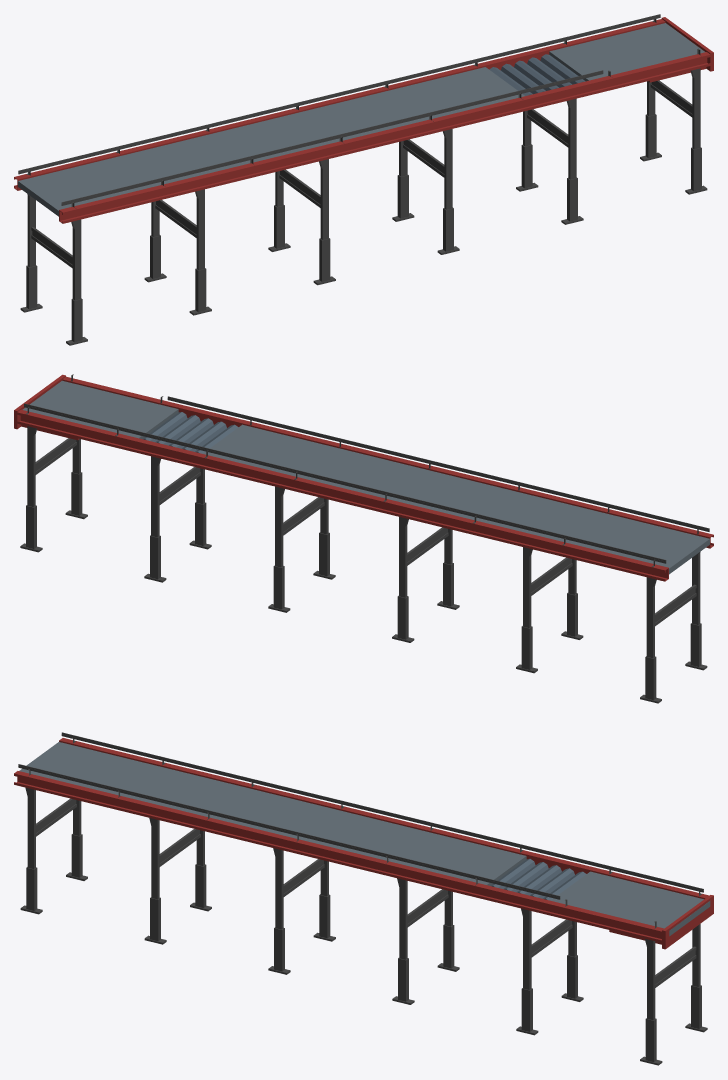
Rendered from cad-kxf.glb.
3 renders of one model, top to bottom at view 1: azimuth 30°, elevation 25°; view 2: azimuth 150°, elevation 25°; view 3: azimuth 330°, elevation 25°, orthographic.
Parts seen in each view (by area): view 1: cad-kxf_gray metal__GLB, cad-kxf_belt_surface, cad-kxf_red metal__GLB, cad-kxf_极简_深灰; view 2: cad-kxf_gray metal__GLB, cad-kxf_belt_surface, cad-kxf_red metal__GLB, cad-kxf_极简_深灰; view 3: cad-kxf_belt_surface, cad-kxf_gray metal__GLB, cad-kxf_red metal__GLB, cad-kxf_极简_深灰.
Boxes of the visible parts, bbox=[...] form: cad-kxf_gray metal__GLB: bbox=[18, 14, 707, 345]; cad-kxf_belt_surface: bbox=[18, 23, 705, 216]; cad-kxf_red metal__GLB: bbox=[14, 17, 713, 223]; cad-kxf_极简_深灰: bbox=[489, 54, 585, 95]; cad-kxf_gray metal__GLB: bbox=[20, 374, 709, 703]; cad-kxf_belt_surface: bbox=[22, 380, 709, 574]; cad-kxf_red metal__GLB: bbox=[14, 374, 713, 581]; cad-kxf_极简_深灰: bbox=[142, 412, 238, 453]; cad-kxf_belt_surface: bbox=[19, 742, 710, 936]; cad-kxf_gray metal__GLB: bbox=[18, 732, 707, 1065]; cad-kxf_red metal__GLB: bbox=[14, 738, 713, 949]; cad-kxf_极简_深灰: bbox=[490, 858, 586, 900].
Size of the model in its own units: 4.08 by 0.8533 by 0.5335.
